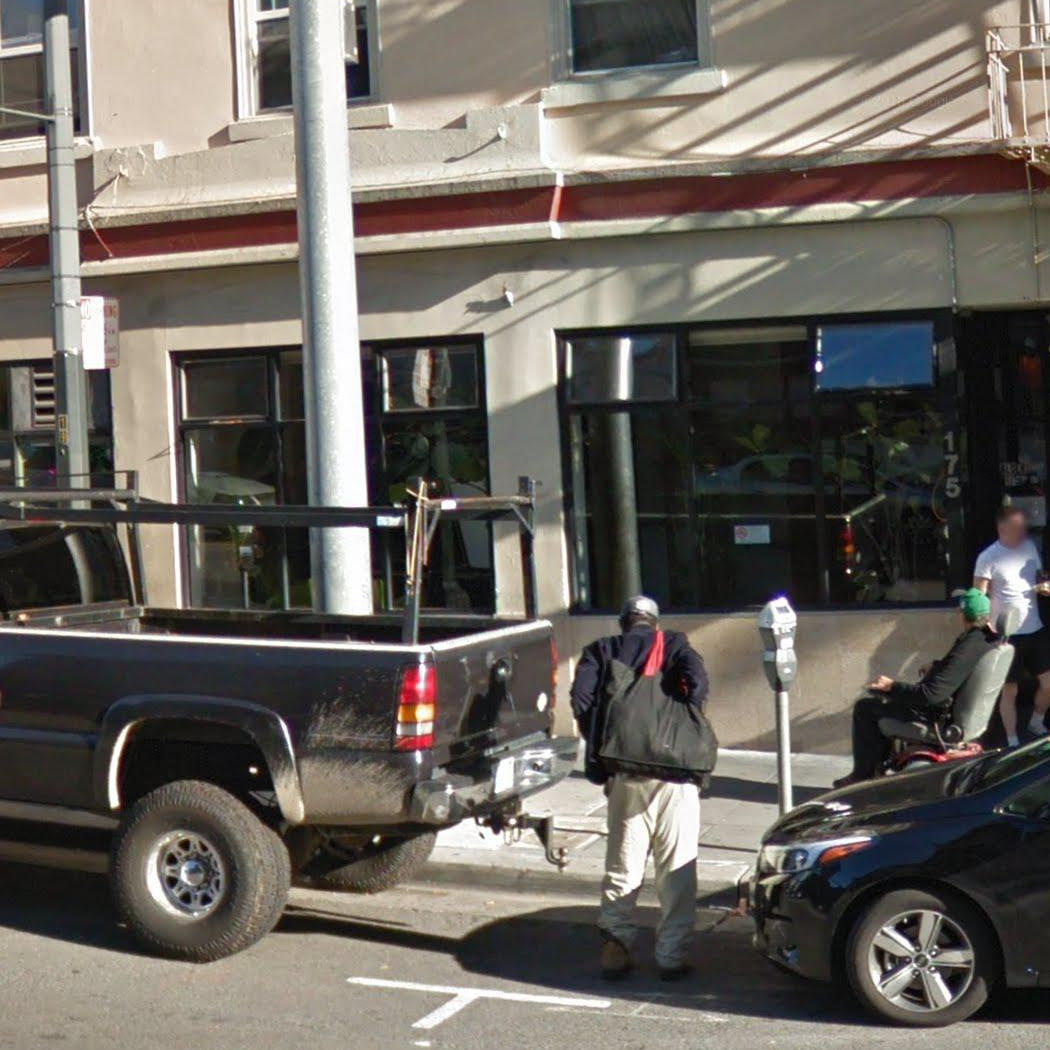No Parking: (75, 293, 123, 371)
